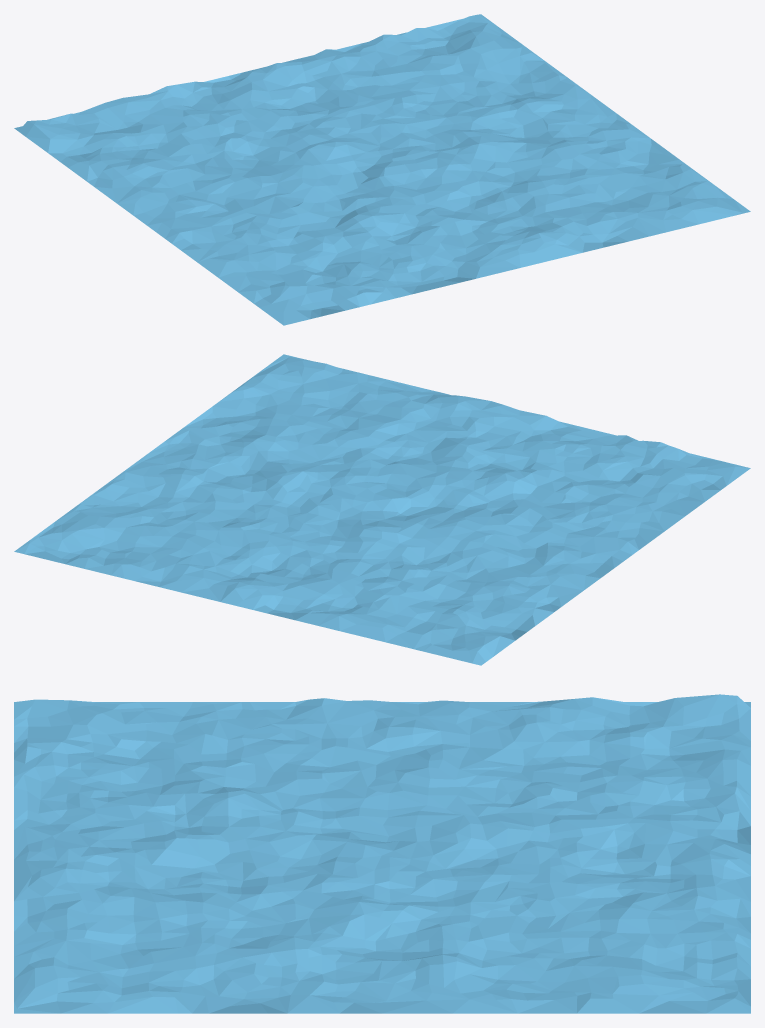
Rendered from water_2.fbx.
3 views of the same model, one above another, from view 1: azimuth 30°, elevation 25°; view 2: azimuth 150°, elevation 25°; view 3: azimuth 270°, elevation 25° (orthographic). The views are drawn at different scales.
Visible parts, largest first — view 1: Plane; view 2: Plane; view 3: Plane.
Boxes of the visible parts, x1,y1,x2,y2 form: Plane: (14, 14, 750, 325); Plane: (14, 354, 750, 665); Plane: (14, 694, 750, 1013).
Bounding box in the file's own units: 1600 × 43 × 1600.
